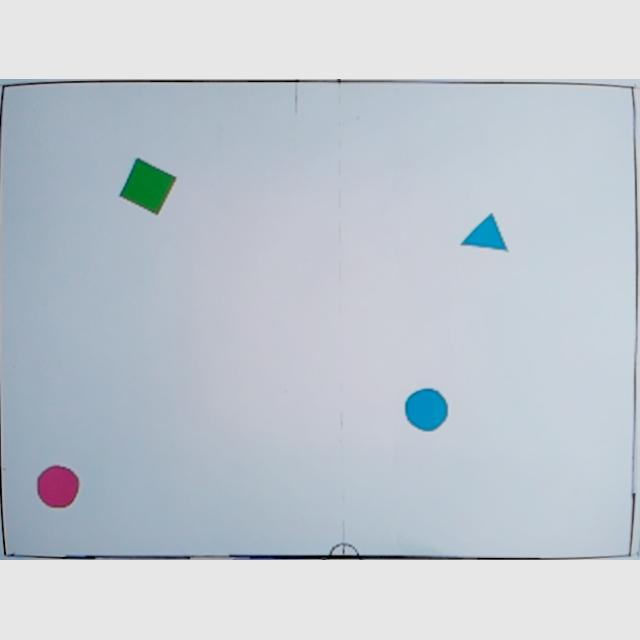blueCircle: (400, 389, 450, 435)
blueTriangle: (458, 214, 509, 258)
greenSquare: (118, 157, 176, 216)
pinkCircle: (36, 464, 80, 512)
